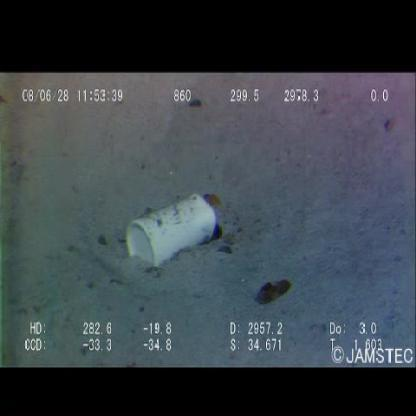Rác: (126, 194, 221, 268)
